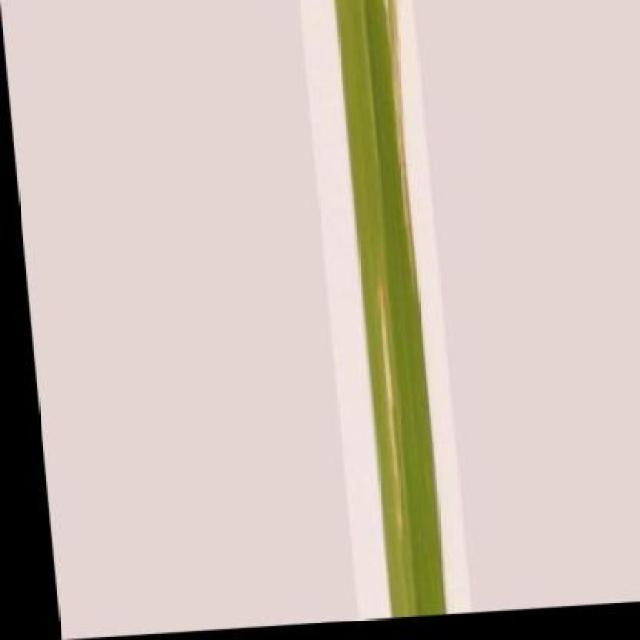Brown_Spot: (324, 0, 444, 623)
